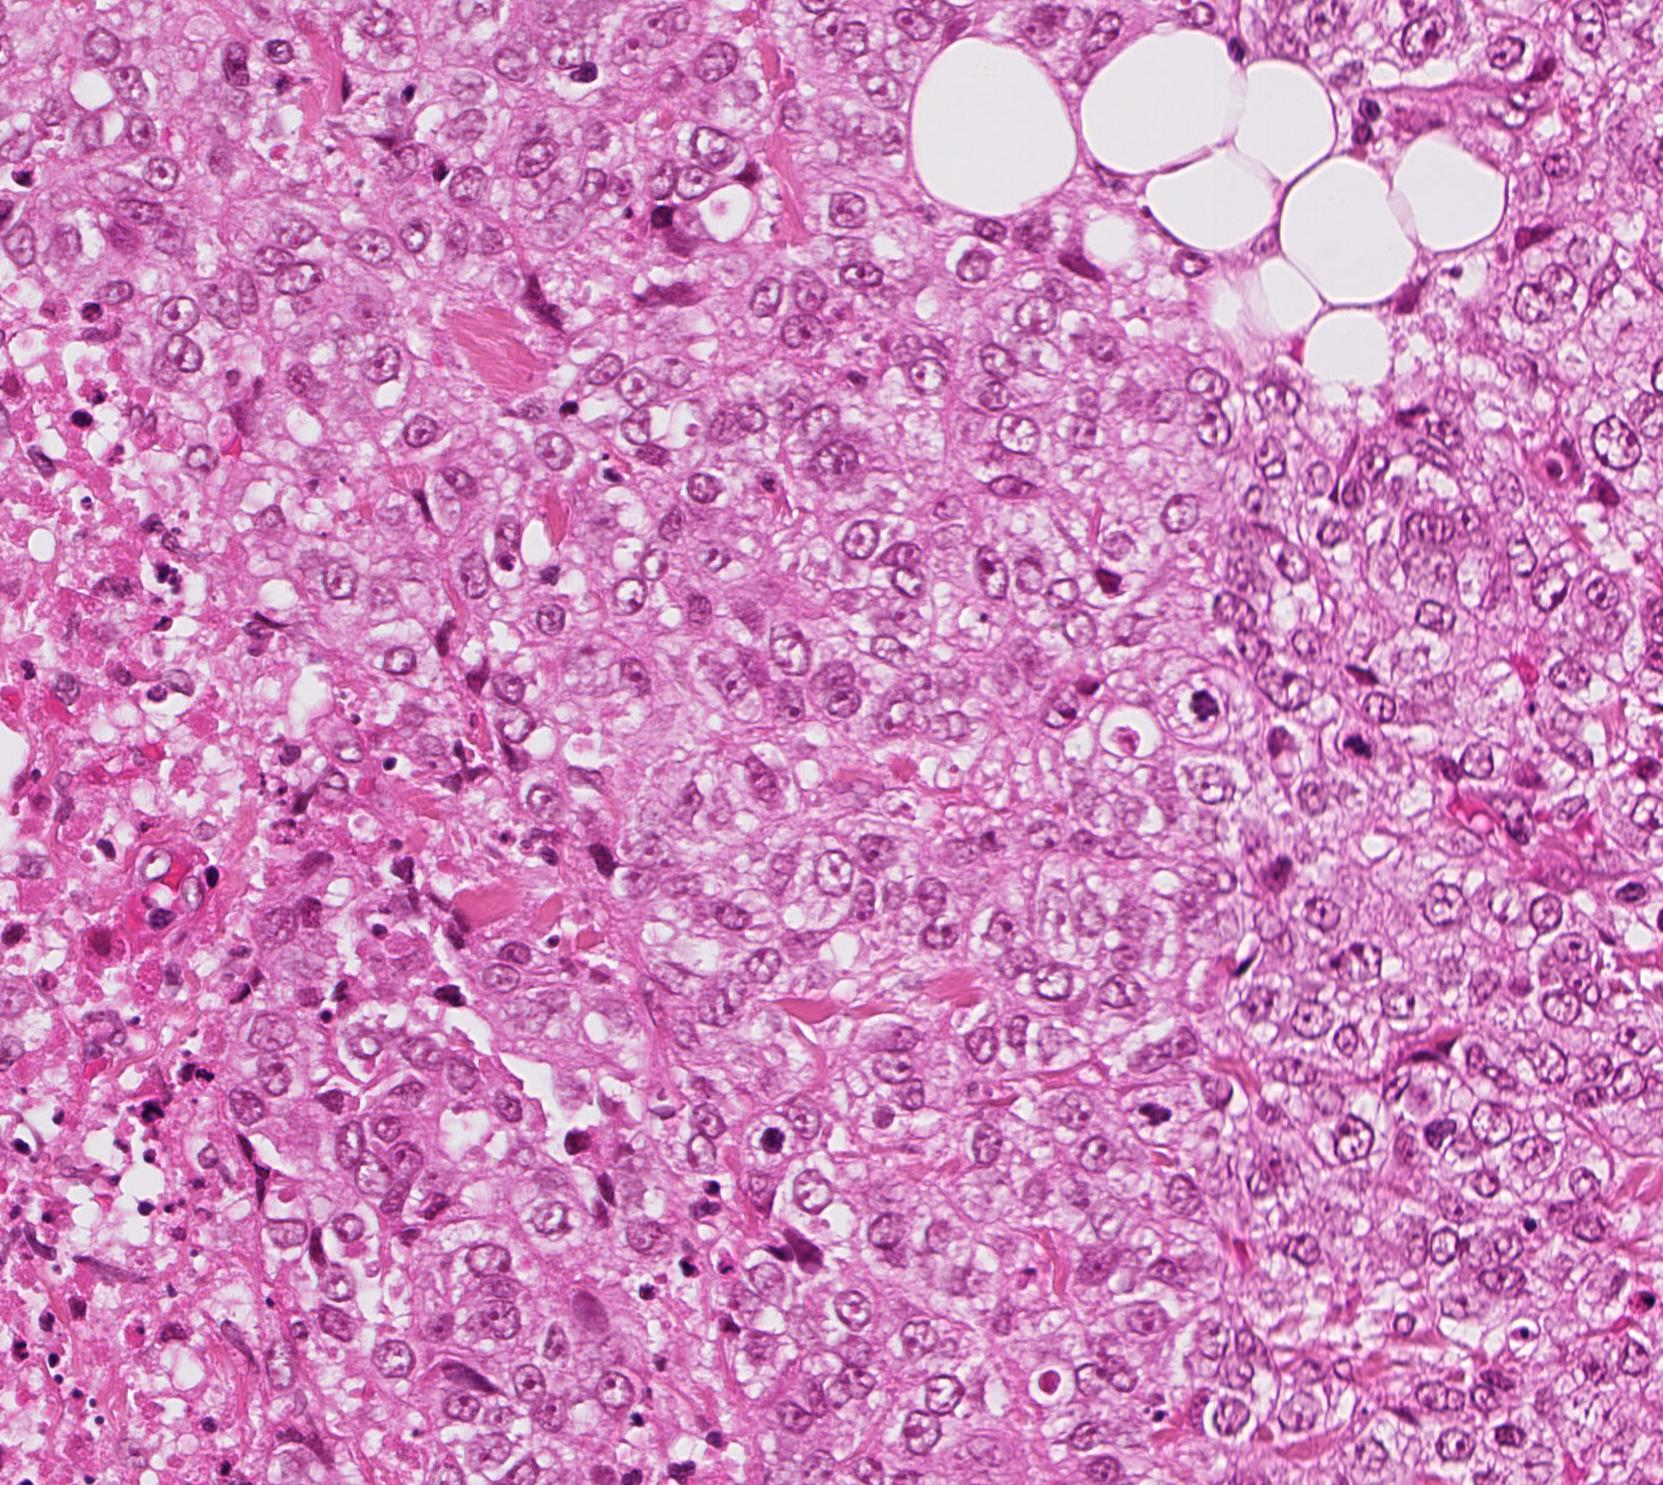mitosis: (1176, 671, 1236, 731)
